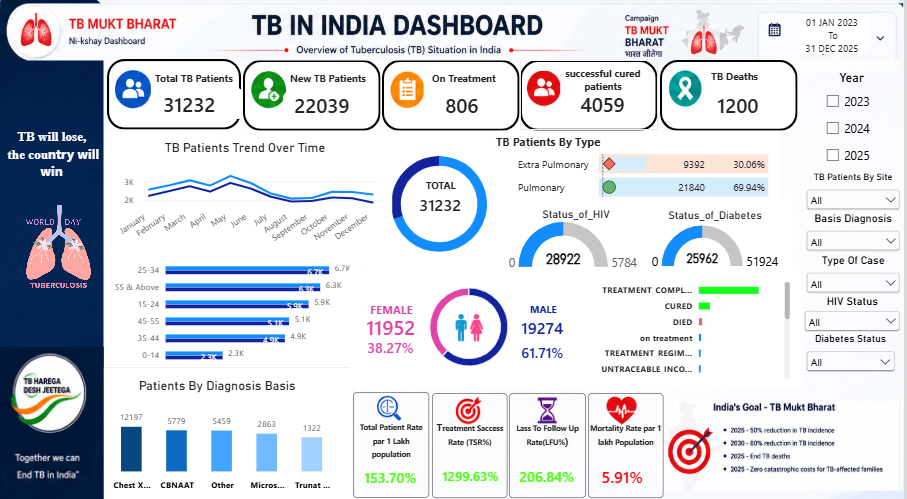

Layout of this report page (visuals, bound fields, positions):
{"tool":"powerbi","page":{"name":"Page 1","canvas":[1280,720],"ordinal":0},"visuals":[{"type":"donutChart","fields":{"Category":["Notification.Site_of_TBDisease"],"Y":["CountNonNull(Notification.Episode_ID)"]},"box":[521.7,188.3,201.7,211.7],"z":0},{"type":"pivotTable","fields":{"Rows":["Notification.Site_of_TBDisease"],"Values":["CountNonNull(Notification.Episode_ID)","Notification.Patients %"]},"box":[713.3,173.3,393.3,195],"z":1000},{"type":"clusteredBarChart","fields":{"Category":["Notification.Age Group"],"Y":["Notification.count Agegroup","CountNonNull(Notification.Episode_ID)"]},"box":[141.7,350,371.7,190],"z":2000},{"type":"lineChart","title":"TB Patients Trend Over Time","fields":{"Category":["Notification.Spectrum_Diagnosis_Date.Variation.Date Hierarchy.Month"],"Y":["CountNonNull(Notification.Episode_ID)","CountNonNull(Notification.Status_of_Diabetes)"]},"box":[138.3,188.3,416.7,191.7],"z":3000},{"type":"image","box":[0,0,147.4,701.6],"z":4000},{"type":"columnChart","title":"Patients By Diagnosis Basis","fields":{"Category":["Notification.DiagnosisBasis"],"Y":["Count(Notification.Episode_ID)"]},"box":[111.7,525,390,195],"z":5000},{"type":"cardVisual","fields":{"Data":["CountNonNull(Notification.Episode_ID)"]},"box":[578.3,271.7,93.3,43.3],"z":6000},{"type":"donutChart","fields":{"Category":["Notification.Gender"],"Series":["Notification.Gender"],"Y":["CountNonNull(Notification.Episode_ID)"]},"box":[495.2,384,339.8,169.1],"z":7000},{"type":"shape","box":[344.7,88.7,194.9,100.4],"z":8000},{"type":"shape","box":[541.1,88.7,194.9,100.4],"z":9000},{"type":"shape","box":[737.5,88.7,194.9,100.4],"z":10000},{"type":"image","box":[1064.7,0,215.3,104.7],"z":11000},{"type":"image","box":[0,0,1279.8,99.2],"z":12000},{"type":"shape","box":[151.7,88.3,190,100],"z":13000},{"type":"image","box":[158.3,103.3,55,58.3],"z":14000},{"type":"textbox","box":[219.6,104.8,122,21.2],"z":15000},{"type":"image","box":[541.7,97.5,69.8,62.5],"z":16000},{"type":"textbox","box":[596.7,104.9,121.9,38.3],"z":17000},{"type":"image","box":[346.7,101.7,65,56.7],"z":18000},{"type":"image","box":[737.1,104.3,65.7,51.4],"z":19000},{"type":"textbox","box":[501,560,108,150],"z":20000},{"type":"textbox","box":[612,561,107,149],"z":21000},{"type":"textbox","box":[722,561,109,149],"z":22000},{"type":"image","box":[857.1,561.4,47.1,47.1],"z":23000},{"type":"image","box":[754.3,564.3,42.9,41.4],"z":24000},{"type":"image","box":[534.3,564.3,37.1,35.7],"z":25000},{"type":"image","box":[640,562.9,48.6,42.9],"z":26000},{"type":"cardVisual","fields":{"Data":["CountNonNull(Notification.Episode_ID)"]},"box":[215.9,129.5,129.5,44.2],"z":28000},{"type":"shape","box":[935.3,88.7,194.9,100.4],"z":29000},{"type":"image","box":[944.3,101.4,57.1,58.6],"z":30000},{"type":"shape","box":[1134.5,24.7,97.5,56.7],"z":31000},{"type":"textbox","box":[1124.4,26.2,110.5,62.5],"z":32000},{"type":"textbox","box":[411.7,105,115.8,25],"z":33000},{"type":"textbox","box":[1008,101.8,121.7,23.3],"z":34000},{"type":"cardVisual","fields":{"Data":["Notification.New Case Count"]},"box":[401,134.2,120,36.2],"z":35000},{"type":"cardVisual","fields":{"Data":["Notification.ON TREATMENT"]},"box":[615.3,135.7,83.8,33.8],"z":36000},{"type":"cardVisual","fields":{"Data":["Notification.outcome"]},"box":[806.5,133.2,101.8,37.8],"z":37000},{"type":"cardVisual","fields":{"Data":["Notification.deaths"]},"box":[1000.9,132.6,100.6,39.7],"z":38000},{"type":"textbox","box":[776.7,97.5,155.6,42.2],"z":39000},{"type":"slicer","title":"TB Patients By Site","fields":{"Values":["Notification.Site_of_TBDisease","Notification.Episode_ID"]},"box":[1137.7,247.7,142.3,62.3],"z":40000},{"type":"image","box":[630.9,443.4,68.6,50.3],"z":41000},{"type":"textbox","box":[513.5,432.8,83.8,32],"z":42000},{"type":"textbox","box":[742.1,432.8,54.9,32],"z":43000},{"type":"cardVisual","fields":{"Data":["Notification.male1 %"]},"box":[723.3,483.3,102.1,41.1],"z":44000},{"type":"cardVisual","title":"MALE","fields":{"Data":["Notification.male Patient Text"]},"box":[722.3,449.5,97.5,39.6],"z":45000},{"type":"cardVisual","fields":{"Data":["Notification.female %"]},"box":[504.4,469.3,102.1,54.9],"z":46000},{"type":"cardVisual","fields":{"Data":["Notification.female patients"]},"box":[502.9,449.5,102.1,36.6],"z":47000},{"type":"textbox","box":[591.2,256,67,30.5],"z":48000},{"type":"textbox","box":[672,193.5,210.3,24.4],"z":49000},{"type":"image","box":[932.6,553.1,347.4,167.6],"z":50000},{"type":"textbox","box":[833,561,107,149],"z":51000},{"type":"image","box":[0,489,146.7,231.7],"z":52000},{"type":"slicer","title":"Year","fields":{"Values":["Notification.Spectrum_Diagnosis_Date.Variation.Date Hierarchy.Year"]},"box":[1163.9,103.9,87.1,157.3],"z":53000},{"type":"slicer","title":"Basis Diagnosis","fields":{"Values":["Notification.DiagnosisBasis"]},"box":[1137.7,303.1,142.3,73.1],"z":54000},{"type":"slicer","title":"Type Of Case","fields":{"Values":["Notification.Type_of_Case"]},"box":[1137.7,363.1,142.3,73.8],"z":55000},{"type":"slicer","title":"HIV Status","fields":{"Values":["Notification.Status_of_HIV"]},"box":[1134.6,421.5,145.4,70],"z":56000},{"type":"slicer","title":"Diabetes Status","fields":{"Values":["Notification.Status_of_Diabetes"]},"box":[1137.7,476.9,134.6,70.8],"z":57000},{"type":"clusteredBarChart","fields":{"Category":["Notification.Treatment_Outcome"],"Y":["CountNonNull(Notification.Episode_ID)"]},"box":[822.9,379.4,312.4,178.3],"z":58000},{"type":"gauge","title":"Status_of_HIV","fields":{"Y":["Notification.HIV"]},"box":[693.3,285,246.7,118.3],"z":59000},{"type":"gauge","title":"Status_of_Diabetes","fields":{"Y":["Notification.DM"]},"box":[902.8,286.3,221.1,117.6],"z":60000},{"type":"image","box":[0,270,146.7,196.7],"z":61000},{"type":"textbox","box":[0,186.7,146.7,300],"z":62000},{"type":"cardVisual","fields":{"Data":["Notification.Total Patient Rate"]},"box":[499.7,657,106.3,45.4],"z":63000},{"type":"cardVisual","fields":{"Data":["Notification.Treatment Success Rate (TSR%)"]},"box":[610.7,636.9,112.6,83.3],"z":64000},{"type":"cardVisual","fields":{"Data":["Notification.Loss To Follow Up Rate (LFU%)"]},"box":[720.2,655.4,111,47.8],"z":64001},{"type":"cardVisual","fields":{"Data":["Notification.Mortality Rate per 1 Lakh Population"]},"box":[835.9,646.2,108,67.9],"z":64002}]}

Visuals, with their boxes in screenshot pixels (x1, y1, x2, y2), scaled from the page's 1280x720 canvas onto the 907x499 screenshot:
donutChart - Notification.Site_of_TBDisease x CountNonNull(Notification.Episode_ID): bbox=[370, 131, 513, 277]
pivotTable - Notification.Site_of_TBDisease x CountNonNull(Notification.Episode_ID): bbox=[505, 120, 784, 255]
clusteredBarChart - Notification.Age Group x Notification.count Agegroup: bbox=[100, 243, 364, 374]
"TB Patients Trend Over Time" lineChart: bbox=[98, 131, 393, 263]
image: bbox=[0, 0, 104, 486]
"Patients By Diagnosis Basis" columnChart: bbox=[79, 364, 356, 498]
cardVisual - CountNonNull(Notification.Episode_ID): bbox=[410, 188, 476, 218]
donutChart - Notification.Gender x Notification.Gender: bbox=[351, 266, 592, 383]
shape: bbox=[244, 61, 382, 131]
shape: bbox=[383, 61, 522, 131]
shape: bbox=[523, 61, 661, 131]
image: bbox=[754, 0, 906, 73]
image: bbox=[0, 0, 906, 69]
shape: bbox=[107, 61, 242, 131]
image: bbox=[112, 72, 151, 112]
textbox: bbox=[156, 73, 242, 87]
image: bbox=[384, 68, 433, 111]
textbox: bbox=[423, 73, 509, 99]
image: bbox=[246, 70, 292, 110]
image: bbox=[522, 72, 569, 108]
textbox: bbox=[355, 388, 432, 492]
textbox: bbox=[434, 389, 509, 492]
textbox: bbox=[512, 389, 589, 492]
image: bbox=[607, 389, 641, 422]
image: bbox=[534, 391, 565, 420]
image: bbox=[379, 391, 405, 416]
image: bbox=[454, 390, 488, 420]
cardVisual - CountNonNull(Notification.Episode_ID): bbox=[153, 90, 245, 120]
shape: bbox=[663, 61, 801, 131]
image: bbox=[669, 70, 710, 111]
shape: bbox=[804, 17, 873, 56]
textbox: bbox=[797, 18, 875, 61]
textbox: bbox=[292, 73, 374, 90]
textbox: bbox=[714, 71, 800, 87]
cardVisual - Notification.New Case Count: bbox=[284, 93, 369, 118]
cardVisual - Notification.ON TREATMENT: bbox=[436, 94, 495, 117]
cardVisual - Notification.outcome: bbox=[571, 92, 644, 119]
cardVisual - Notification.deaths: bbox=[709, 92, 781, 119]
textbox: bbox=[550, 68, 661, 97]
"TB Patients By Site" slicer: bbox=[806, 172, 906, 215]
image: bbox=[447, 307, 496, 342]
textbox: bbox=[364, 300, 423, 322]
textbox: bbox=[526, 300, 565, 322]
cardVisual - Notification.male1 %: bbox=[513, 335, 585, 363]
"MALE" cardVisual: bbox=[512, 312, 581, 339]
cardVisual - Notification.female %: bbox=[357, 325, 430, 363]
cardVisual - Notification.female patients: bbox=[356, 312, 429, 337]
textbox: bbox=[419, 177, 466, 199]
textbox: bbox=[476, 134, 625, 151]
image: bbox=[661, 383, 906, 498]
textbox: bbox=[590, 389, 666, 492]
image: bbox=[0, 339, 104, 498]
"Year" slicer: bbox=[825, 72, 886, 181]
"Basis Diagnosis" slicer: bbox=[806, 210, 906, 261]
"Type Of Case" slicer: bbox=[806, 252, 906, 303]
"HIV Status" slicer: bbox=[804, 292, 906, 341]
"Diabetes Status" slicer: bbox=[806, 331, 902, 380]
clusteredBarChart - Notification.Treatment_Outcome x CountNonNull(Notification.Episode_ID): bbox=[583, 263, 804, 387]
"Status_of_HIV" gauge: bbox=[491, 198, 666, 280]
"Status_of_Diabetes" gauge: bbox=[640, 198, 796, 280]
image: bbox=[0, 187, 104, 323]
textbox: bbox=[0, 129, 104, 337]
cardVisual - Notification.Total Patient Rate: bbox=[354, 455, 429, 487]
cardVisual - Notification.Treatment Success Rate (TSR%): bbox=[433, 441, 513, 498]
cardVisual - Notification.Loss To Follow Up Rate (LFU%): bbox=[510, 454, 589, 487]
cardVisual - Notification.Mortality Rate per 1 Lakh Population: bbox=[592, 448, 669, 495]
